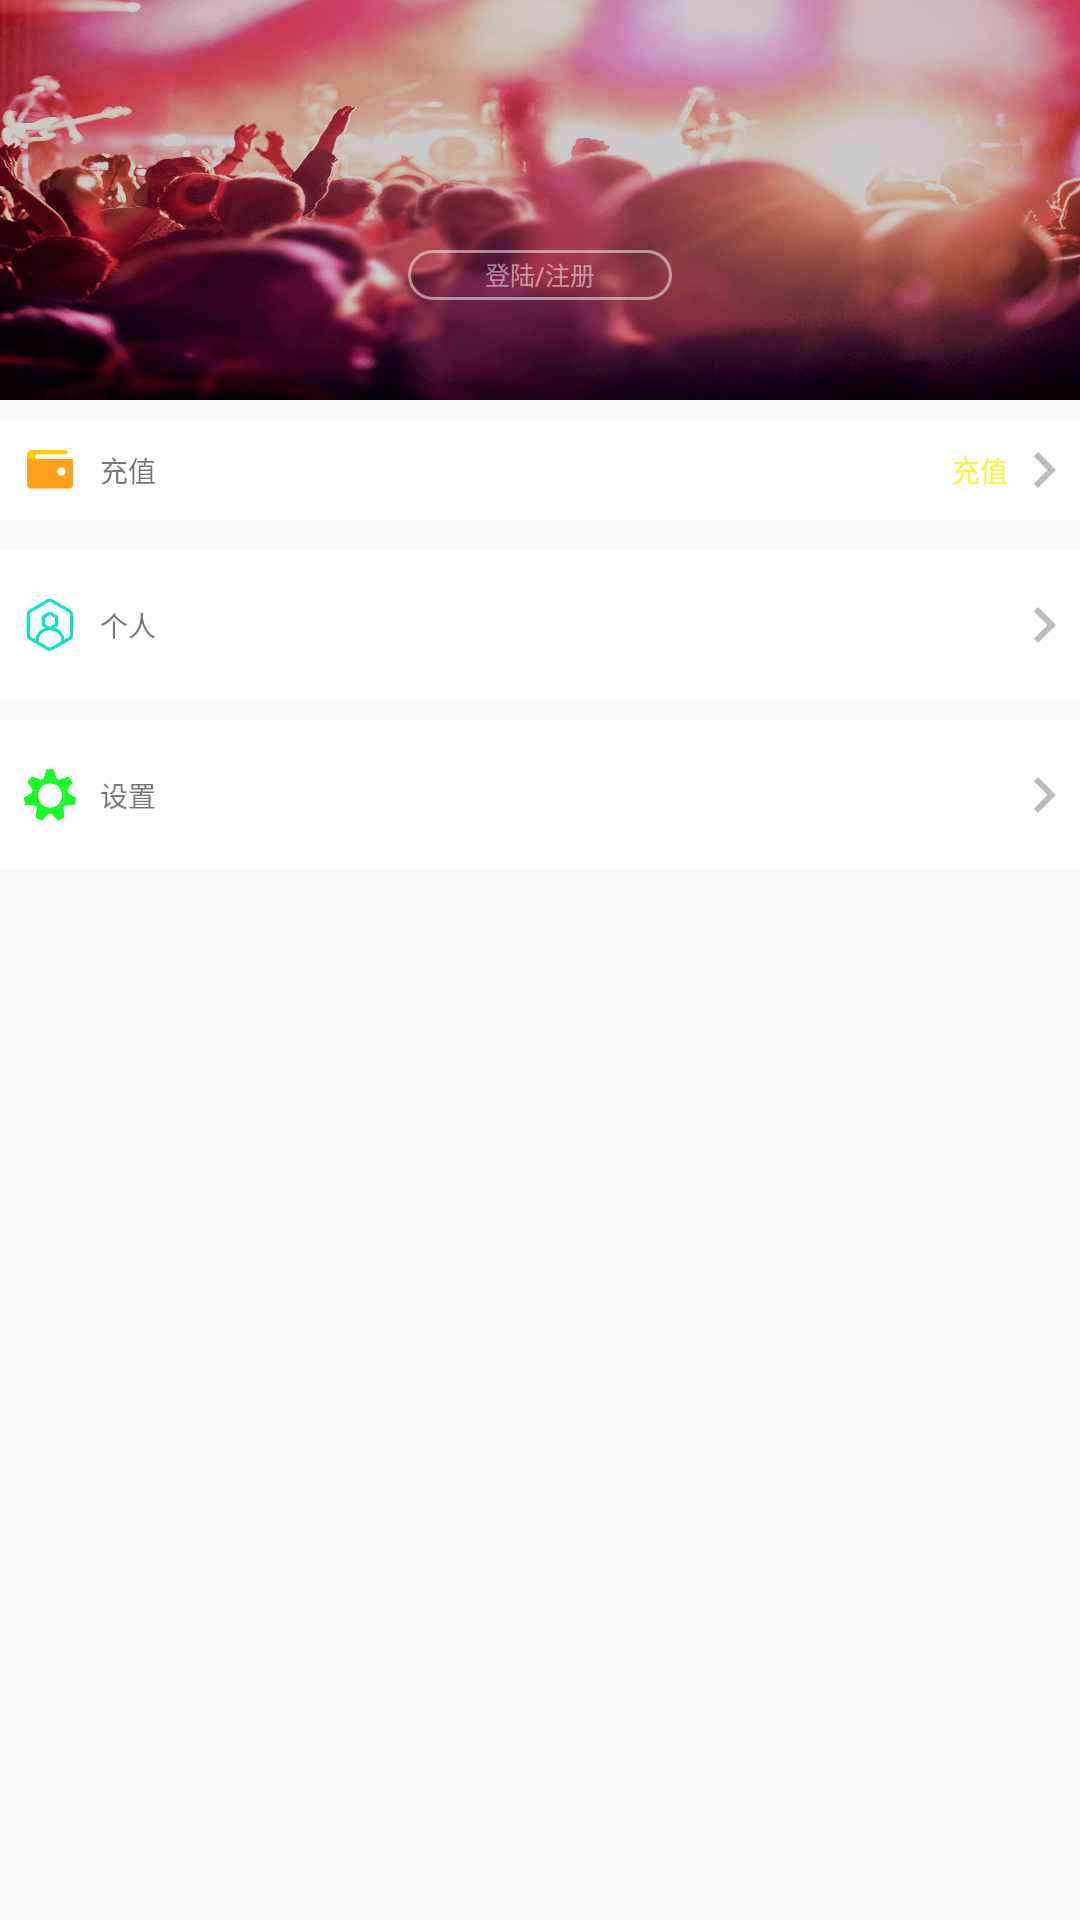

Icon bounding boxes for this 1080*1920 phone screenshot, format box(x1, y1, x2, y2):
forward: box(1034, 452, 1056, 488), box(1034, 607, 1056, 643), box(1034, 777, 1056, 813)
options: box(24, 769, 76, 821)
personal center: box(26, 599, 73, 651)
xllive wallet: box(27, 450, 73, 489)
